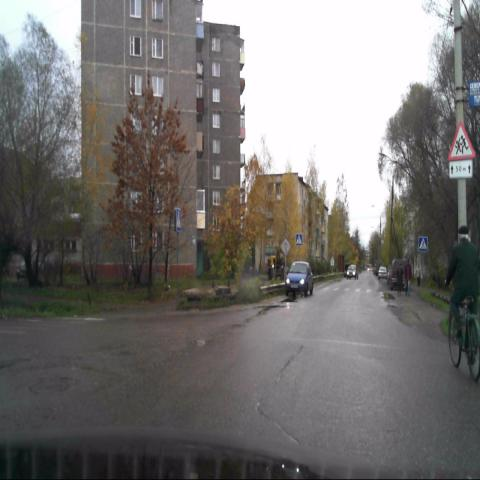1_23: (448, 121, 475, 160)
5_19_1: (418, 235, 428, 253), (175, 207, 182, 232), (296, 233, 302, 246)
8_2_1: (449, 161, 472, 178)
